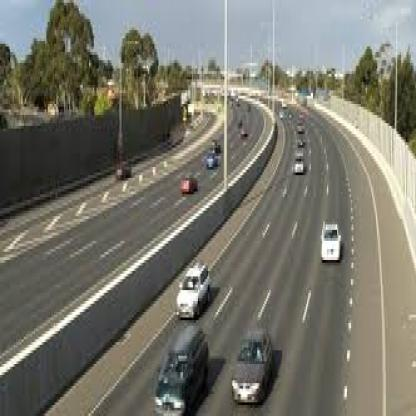car: (146, 304, 210, 416), (232, 311, 275, 416), (164, 251, 222, 325), (320, 199, 345, 276), (286, 151, 310, 196), (174, 174, 206, 200)
